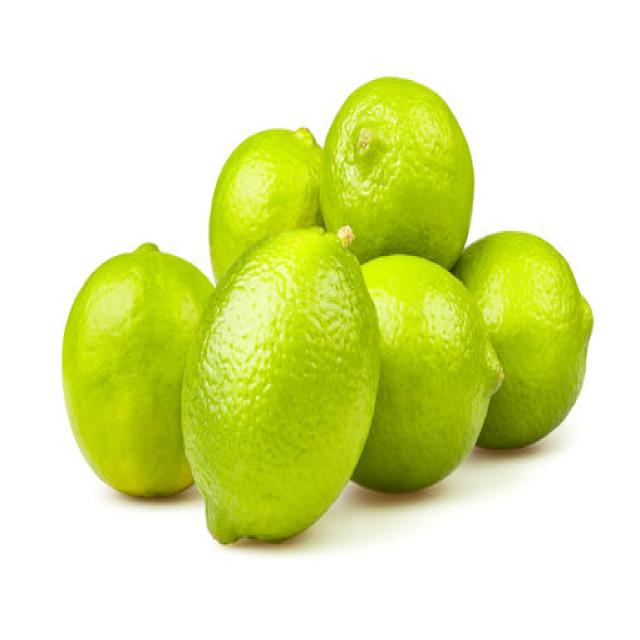Lemon: (180, 224, 380, 544), (60, 240, 215, 498), (349, 250, 503, 492), (452, 228, 594, 448), (319, 74, 474, 268), (208, 124, 324, 284)
